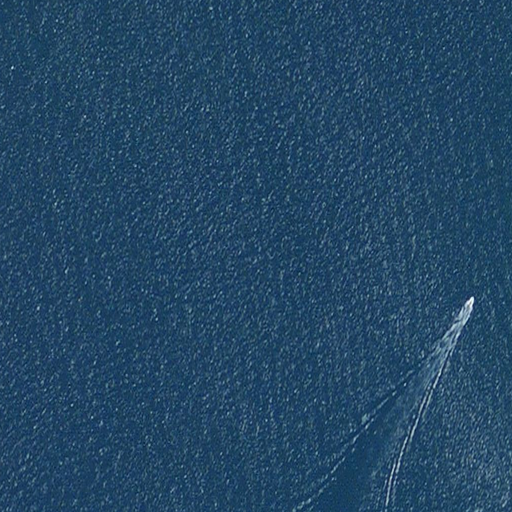ship: (458, 294, 476, 328)
